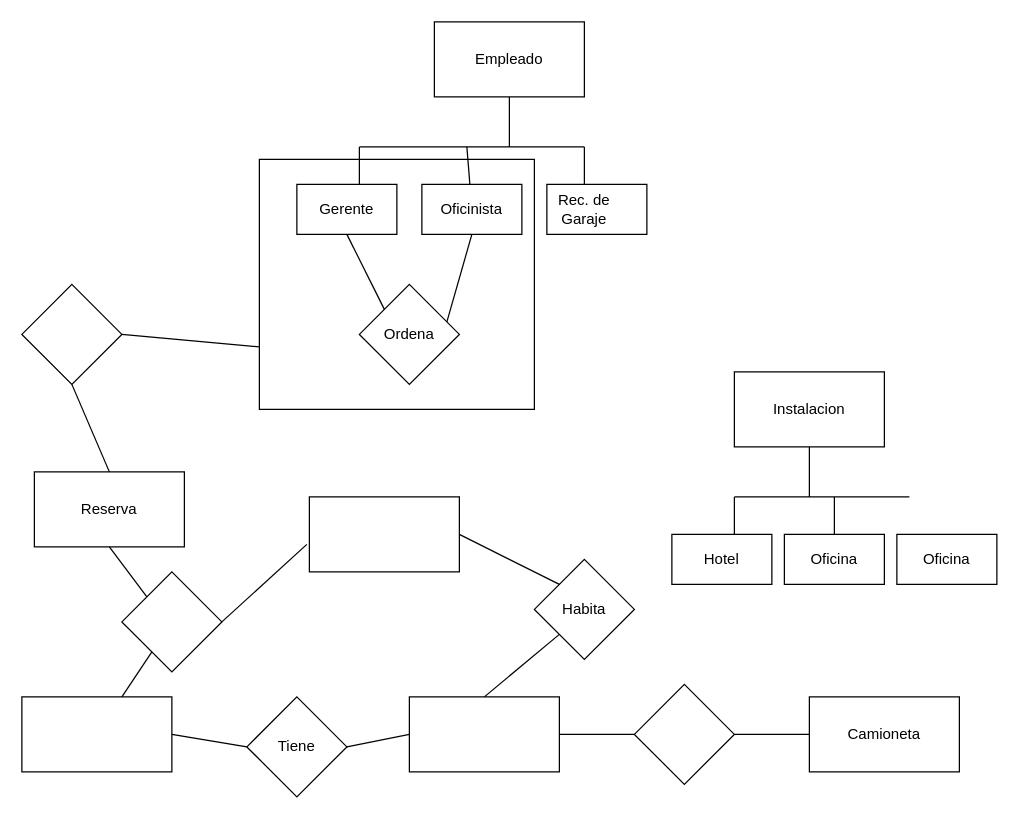
Image size: 1019x819. Some labels were removed from this diagram. Here are the shapes that lost their labels. From the top down, the centre of each, then its label:
pixel 71 333: Realiza
pixel 383 534: Habitacion
pixel 171 621: Solicita
pixel 96 734: Cliente
pixel 483 734: Mascota
pixel 683 733: Trasladada
